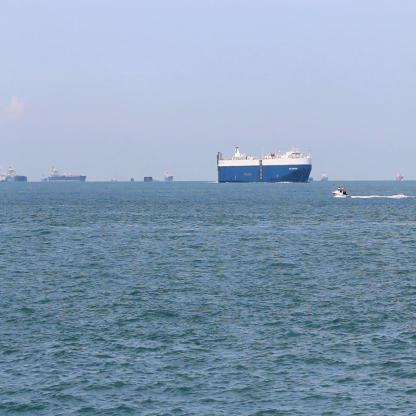Container Ship: (215, 138, 314, 184), (48, 164, 88, 183), (0, 164, 30, 183), (163, 166, 175, 183), (394, 168, 406, 184), (320, 168, 330, 183), (40, 171, 48, 183)
